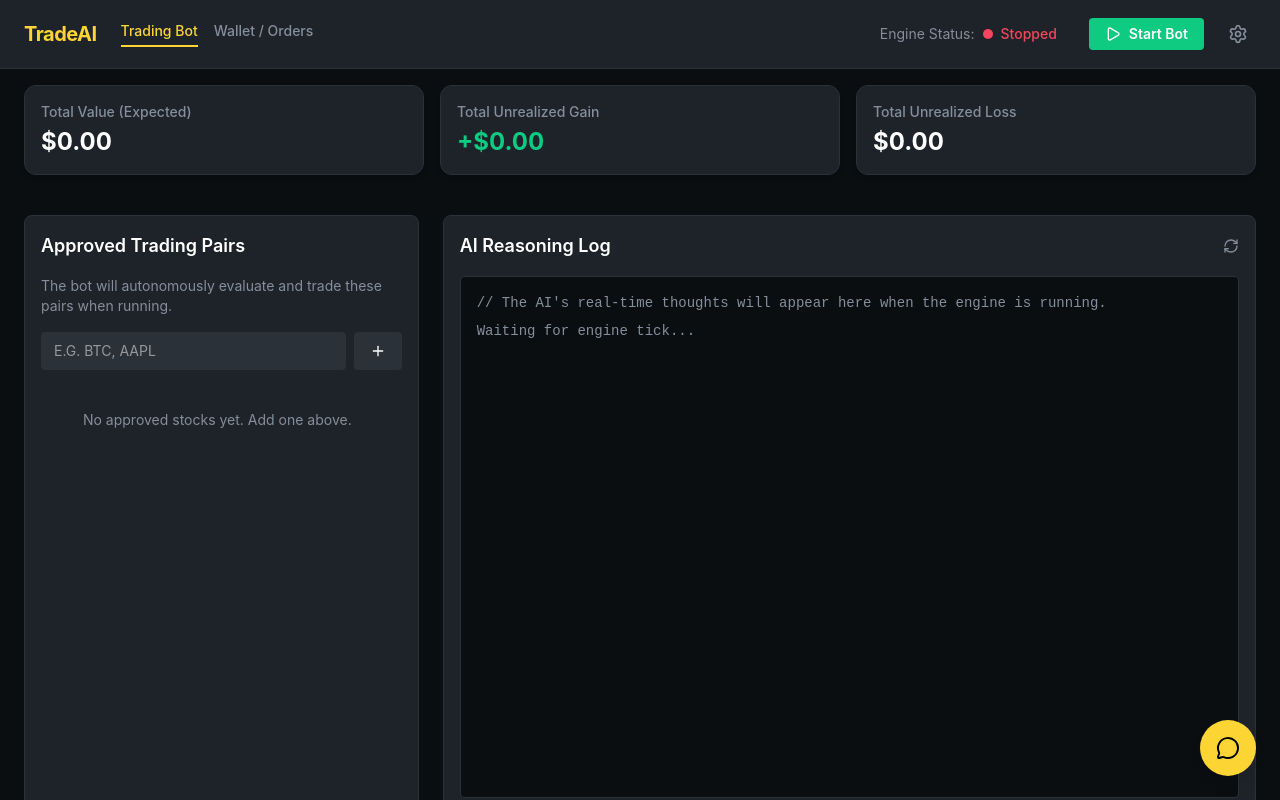
App › sends AI chat
This screenshot has width=1280, height=800.
Expected: the heading "TradeAI" is shown, [24,20,97,48]
Step 1. Click the button with class "lucide-message-circle" → click(1228, 748), box [1200,720,1256,776]
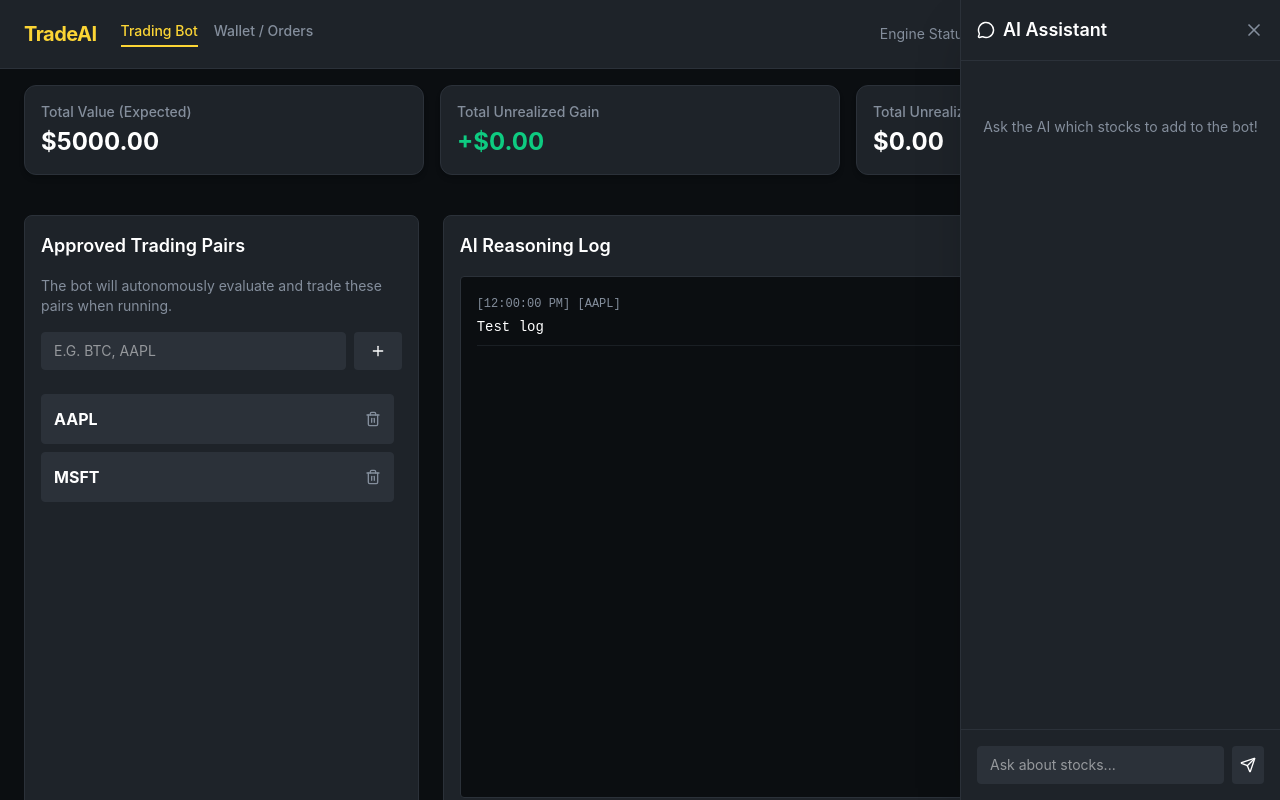
Expected: the field with placeholder "Ask about stocks..." is shown
Step 2. Type "Hello AI" into the field with placeholder "Ask about stocks..." → (1100, 765), box [977,746,1224,784]
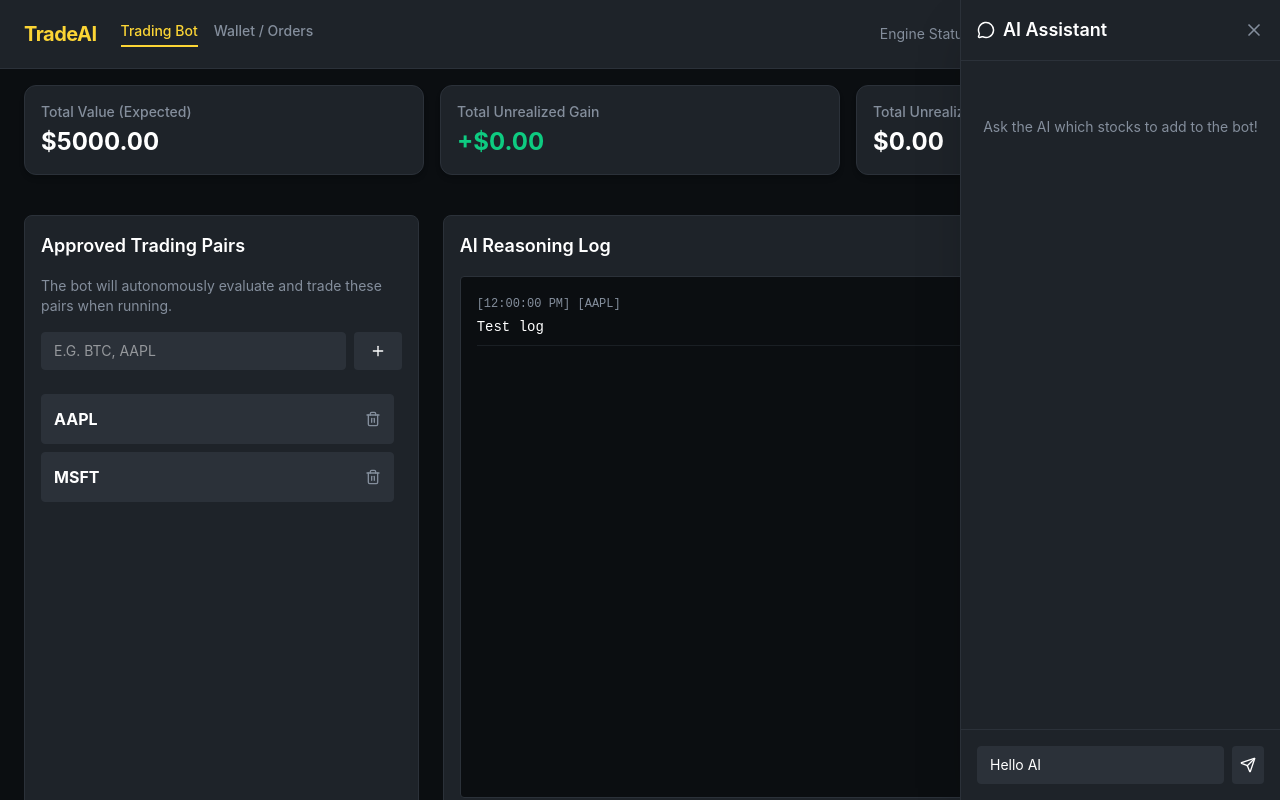
Step 3. Submit the 2nd form with placeholder "Ask about stocks...", box [961,729,1279,799]
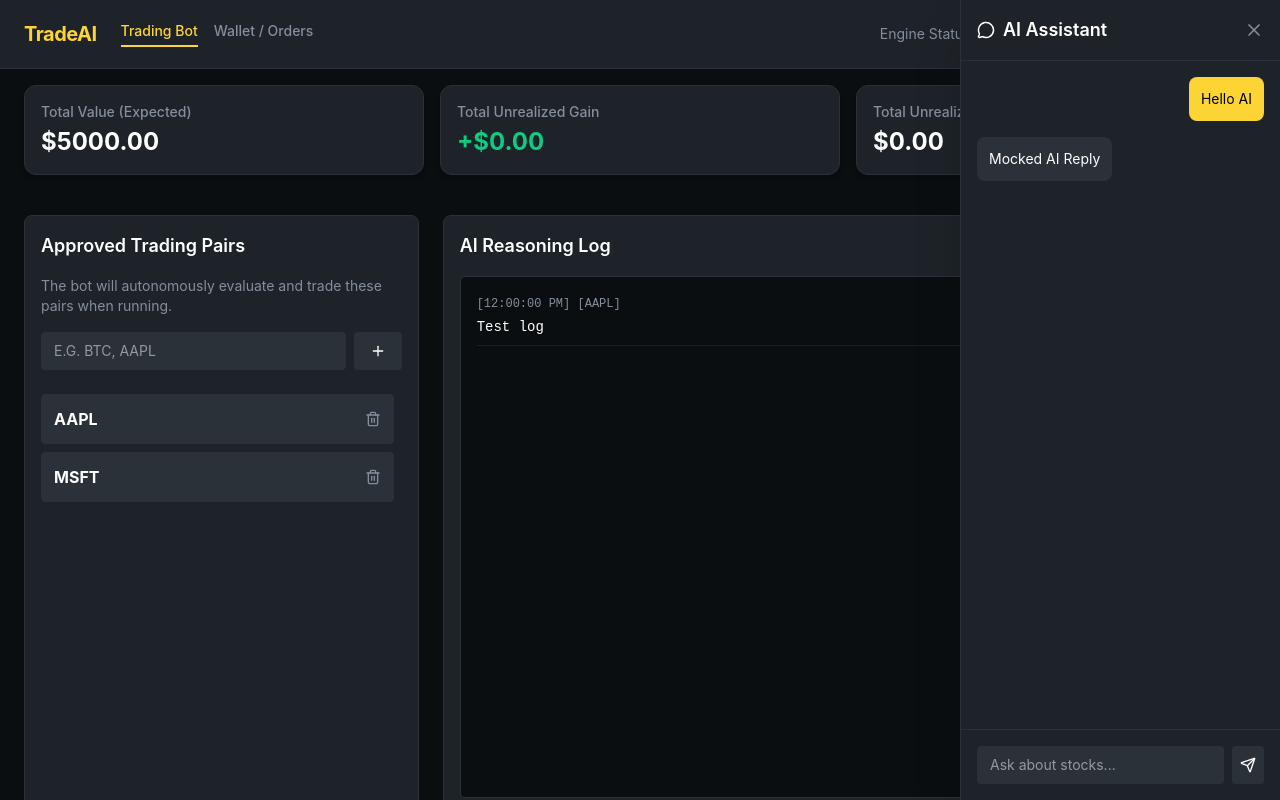
Expected: the text "Mocked AI Reply" is shown, [977,137,1112,181]
